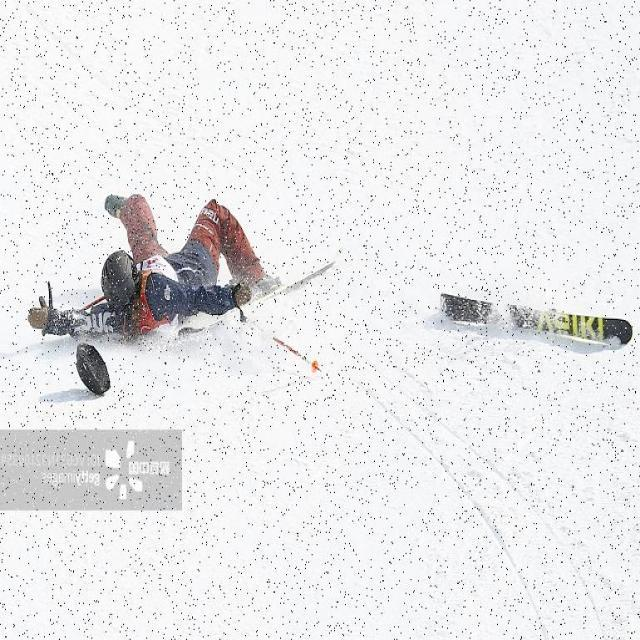fall: (36, 189, 272, 341)
